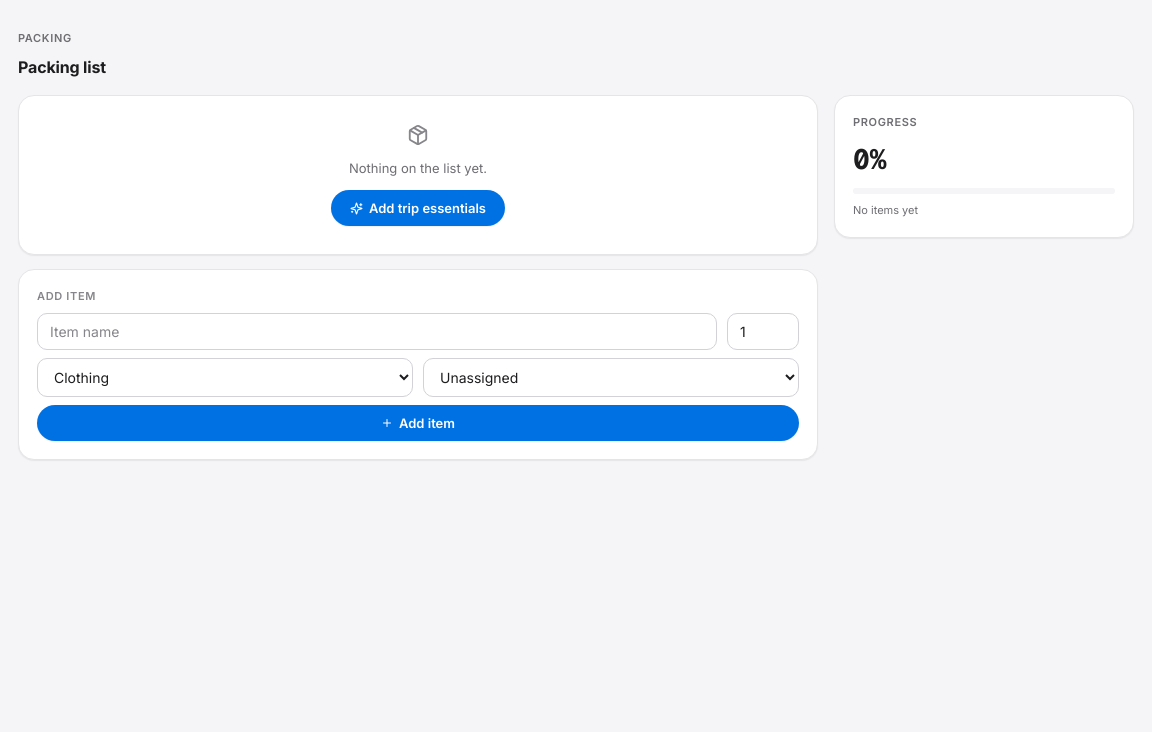
it: PackingView › shows an empty state with a one-click starter list
Check: the text "Nothing on the list yet." is shown, box top-left (349, 160), bottom-right (487, 176)
Click the button "Add trip essentials": (418, 208) top-left (331, 190), bottom-right (505, 226)
(page scrolled)
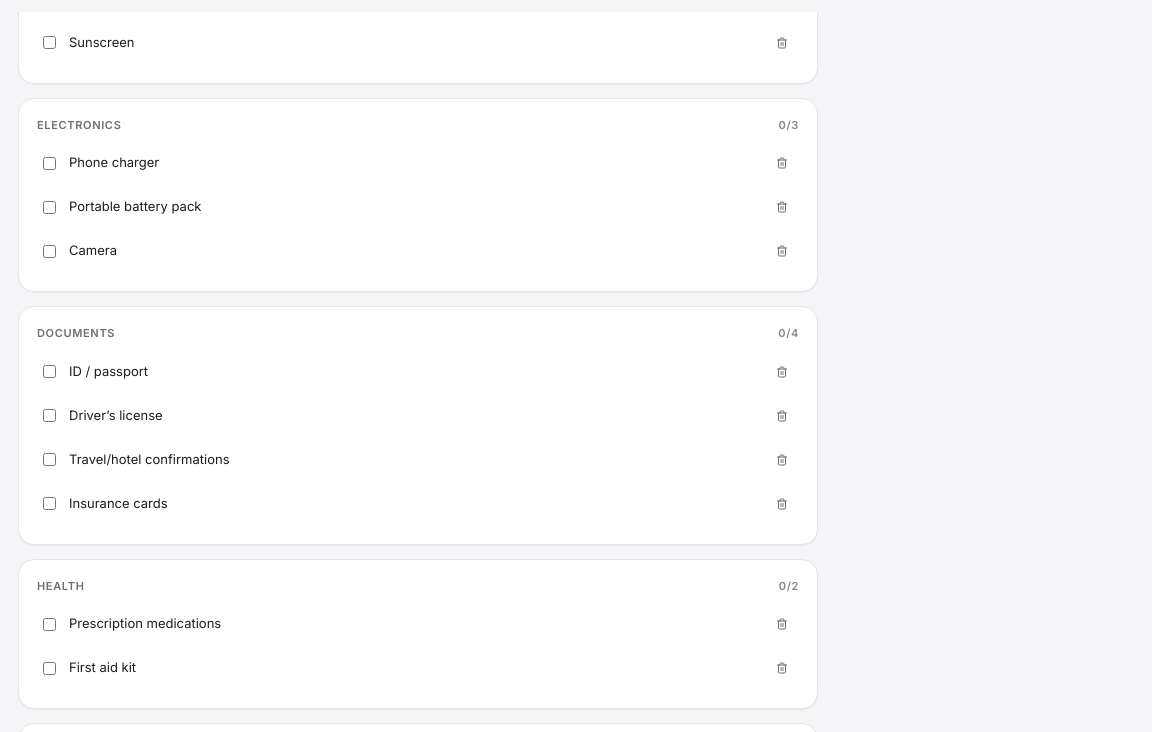
Check: the text "Nothing on the list yet" is gone
Check: the text "Phone charger" is shown, box top-left (69, 154), bottom-right (159, 170)
Check: the text "ID / passport" is shown, box top-left (69, 363), bottom-right (148, 379)
